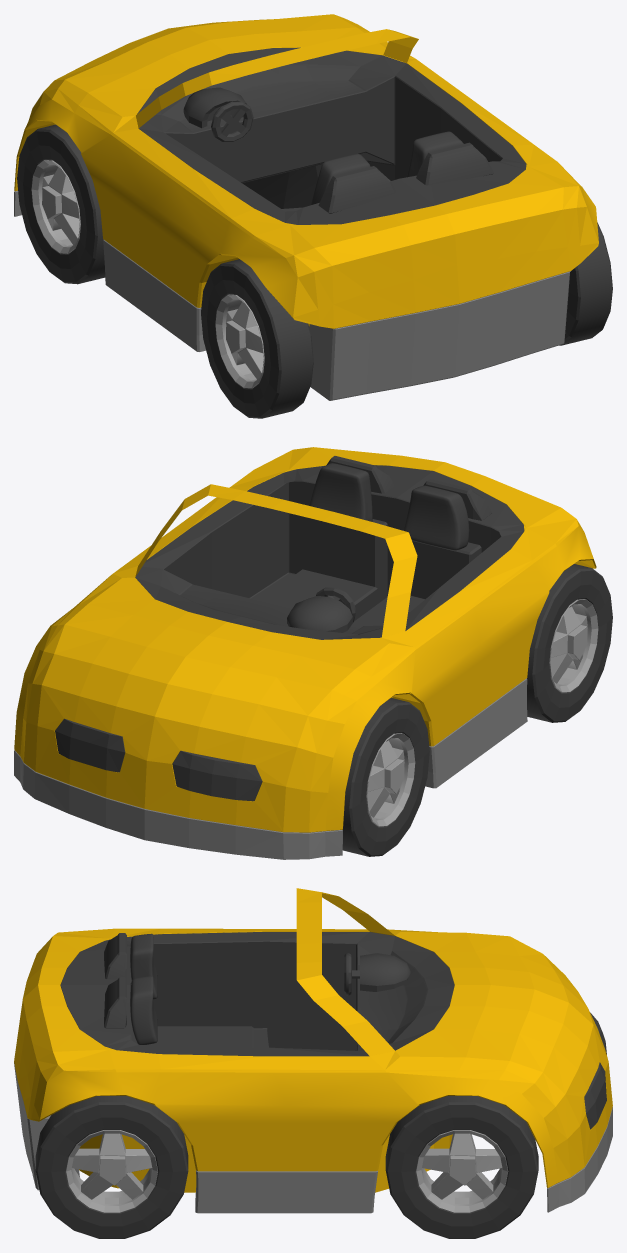
Rendered from Spielzeugauto.fbx.
The picture shows the model from 3 angles, top to bottom: view 1: azimuth 30°, elevation 25°; view 2: azimuth 150°, elevation 25°; view 3: azimuth 270°, elevation 25°; orthographic projection. The views are drawn at different scales.
Visible parts, largest first — view 1: Omni002; view 2: Omni002; view 3: Omni002.
Part boxes in pixels (bbox=[...]): Omni002: bbox=[14, 14, 612, 418]; Omni002: bbox=[14, 447, 612, 859]; Omni002: bbox=[14, 888, 612, 1238].
Size of the model in its own units: 50.06 by 33.39 by 78.39.
